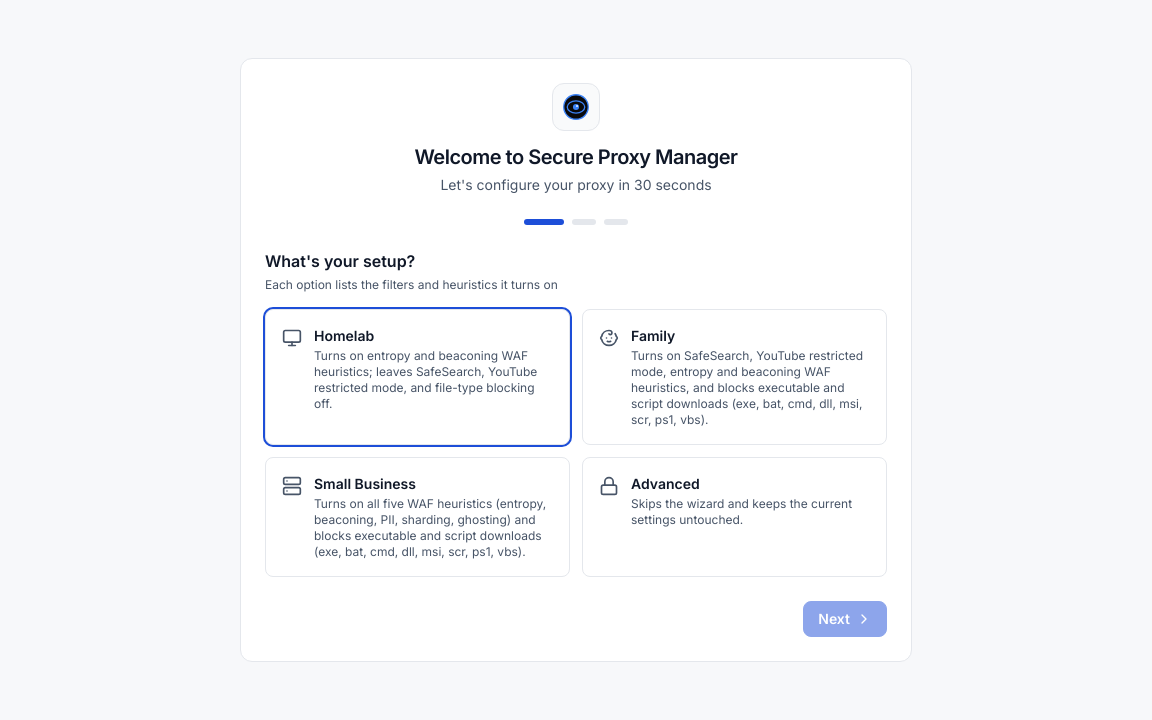
it: SetupWizard › renders step 0 with environment options and removes the fake devices step
Expected: the text "Family" is shown, top-left (631, 327), bottom-right (675, 344)
Expected: the text "Small Business" is shown, top-left (314, 475), bottom-right (416, 492)
Click the text "Homelab" at [344, 336], box top-left (314, 327), bottom-right (374, 344)
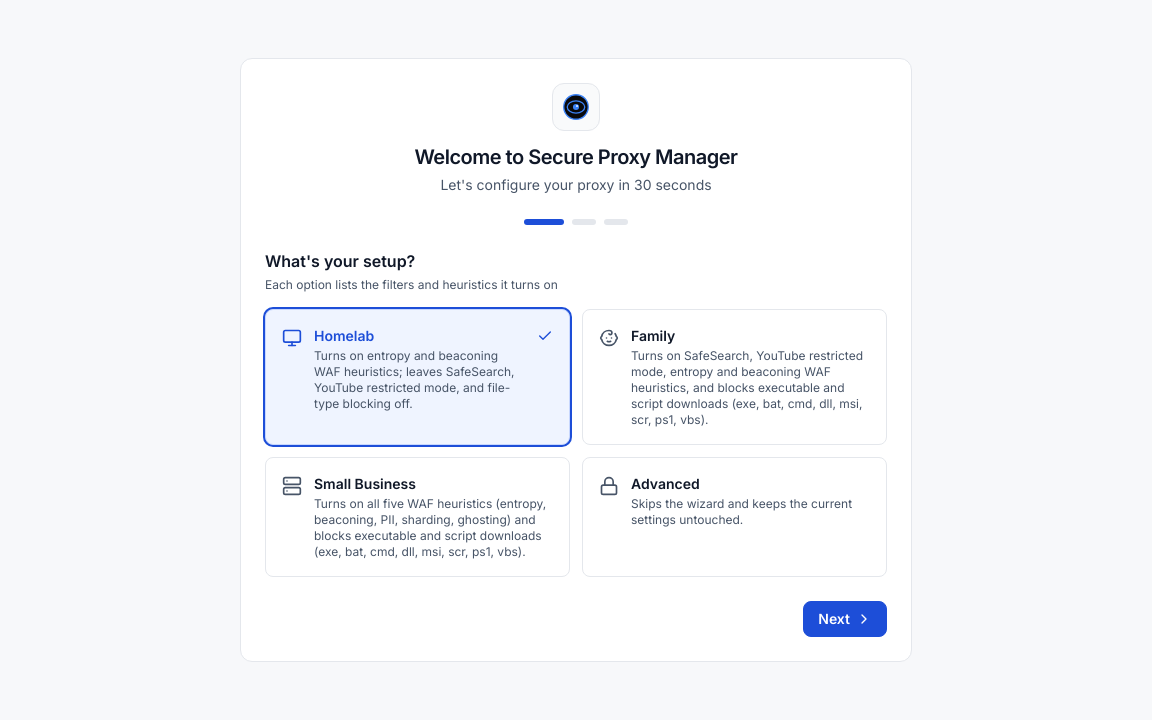
Click the button "Next" at [845, 619], box top-left (803, 601), bottom-right (887, 637)
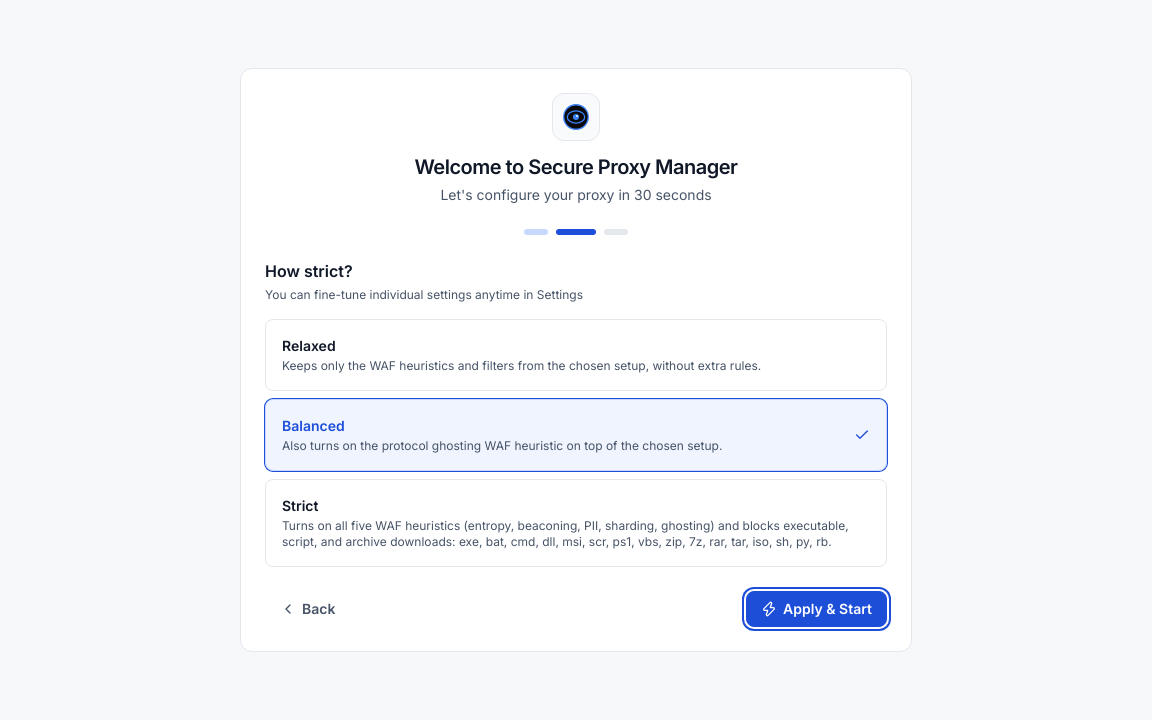
Expected: the text "Strict" is shown, top-left (282, 497), bottom-right (318, 514)
Now the text "Relaxed" is shown, box top-left (282, 337), bottom-right (336, 354)
Now the text "Balanced" is shown, box top-left (282, 417), bottom-right (345, 434)
